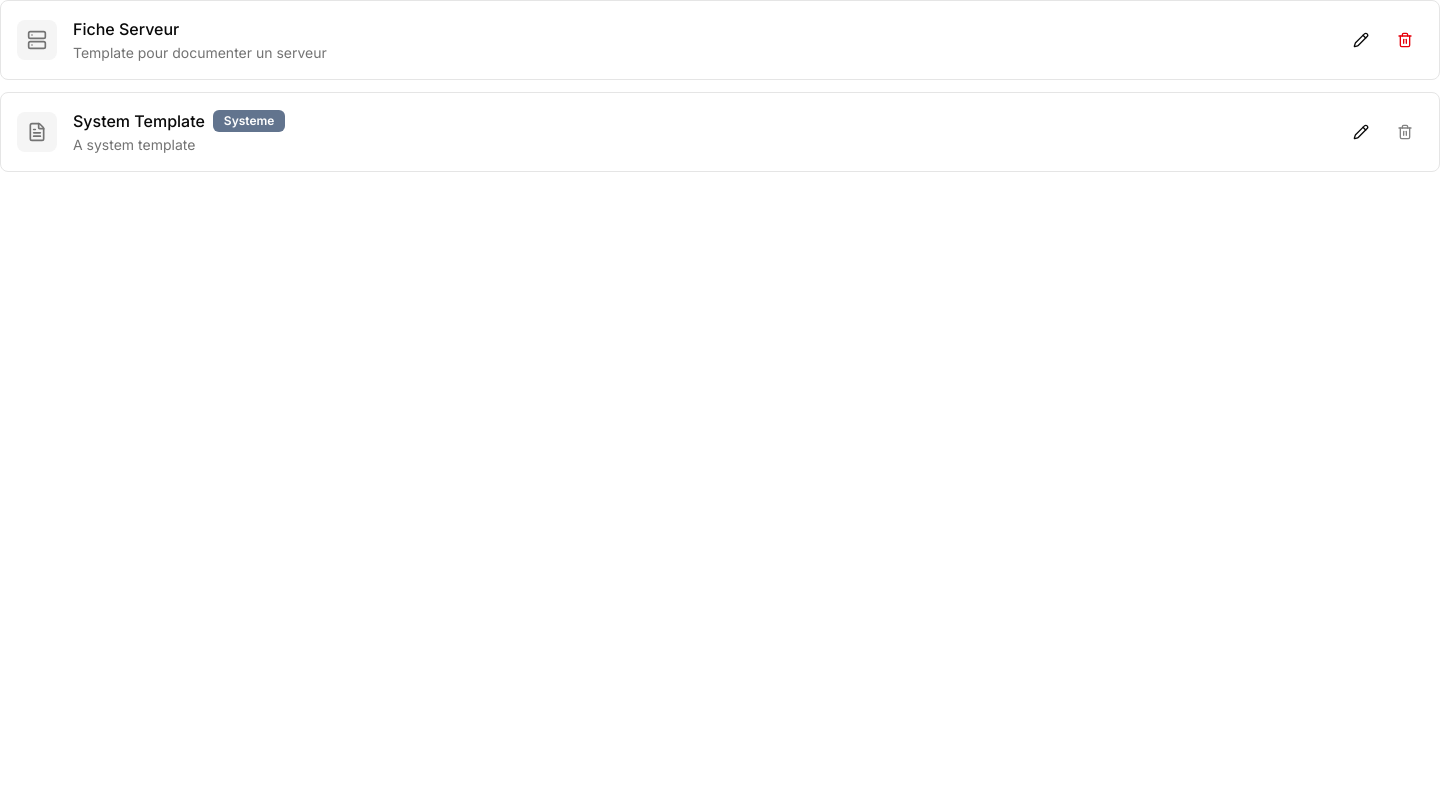
TemplateList › opens delete confirmation dialog when delete is clicked
This screenshot has width=1440, height=810.
Click the button named "Supprimer Fiche Serveur" at [1405, 40], box x1=1387 y1=22 x2=1423 y2=58
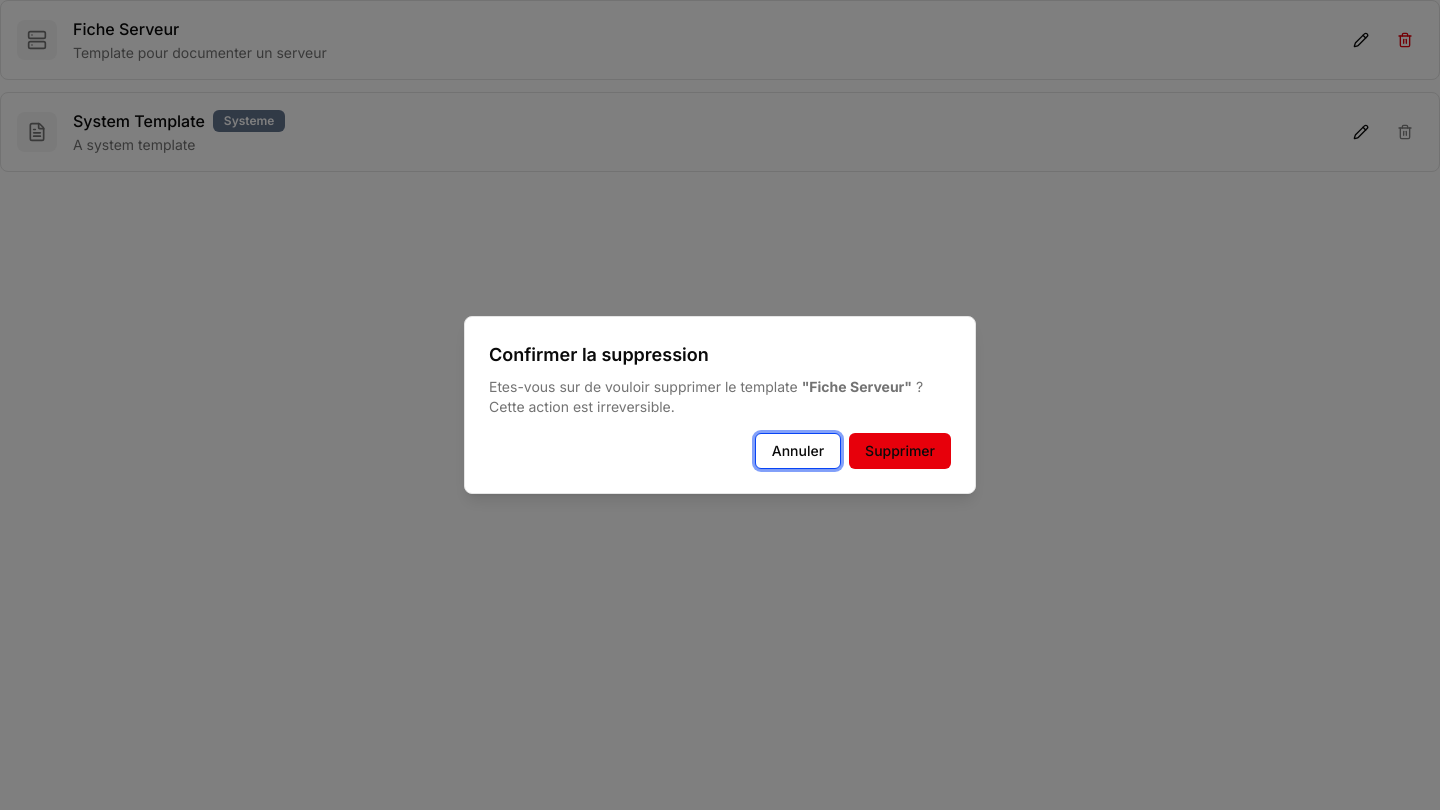
Now the dialog is shown, box x1=464 y1=316 x2=976 y2=494
Now the heading "Confirmer la suppression" is shown, box x1=489 y1=344 x2=709 y2=365
